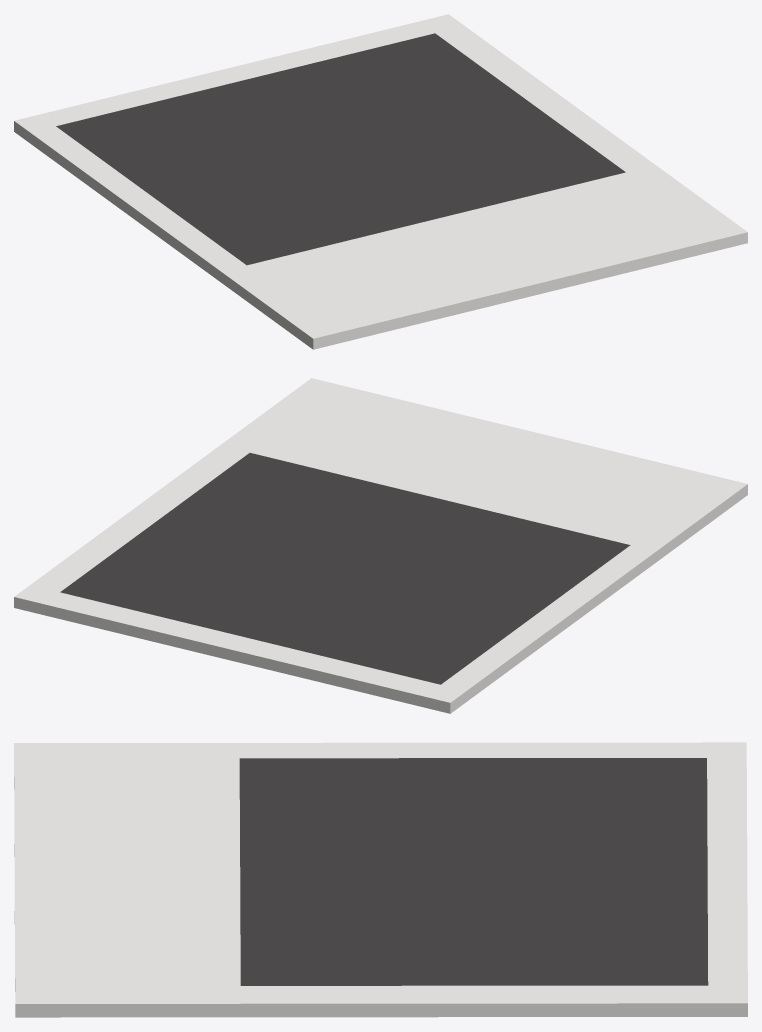
File: Photo_2.fbx
The picture shows the model from 3 angles, top to bottom: view 1: azimuth 30°, elevation 25°; view 2: azimuth 150°, elevation 25°; view 3: azimuth 270°, elevation 25°; orthographic projection. The views are drawn at different scales.
Visible parts, largest first — view 1: Photo_2; view 2: Photo_2; view 3: Photo_2.
Boxes of the visible parts, <box> form: Photo_2: <box>14,14,747,349</box>; Photo_2: <box>14,378,747,713</box>; Photo_2: <box>14,742,747,1017</box>.
Size of the model in its own units: 13.91 by 16.49 by 0.3349.
